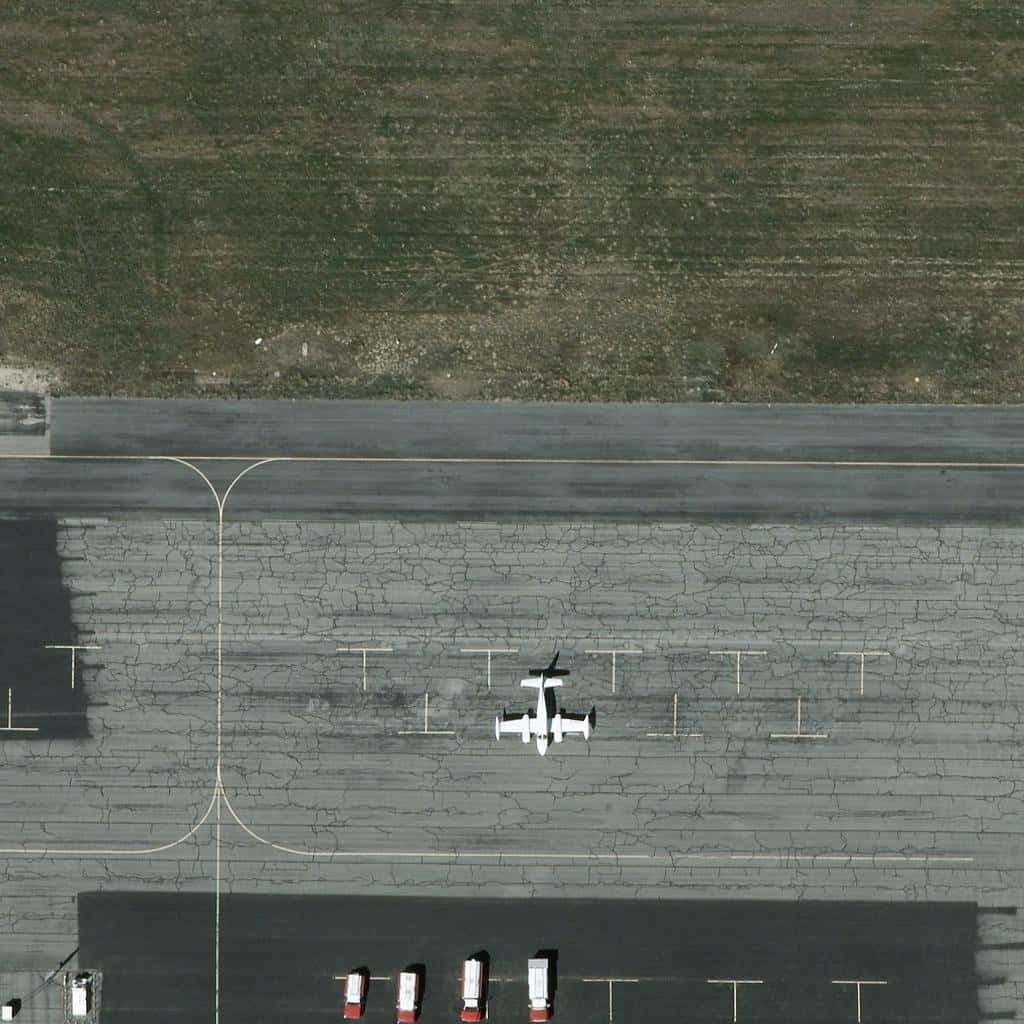plane: (492, 673, 596, 757)
